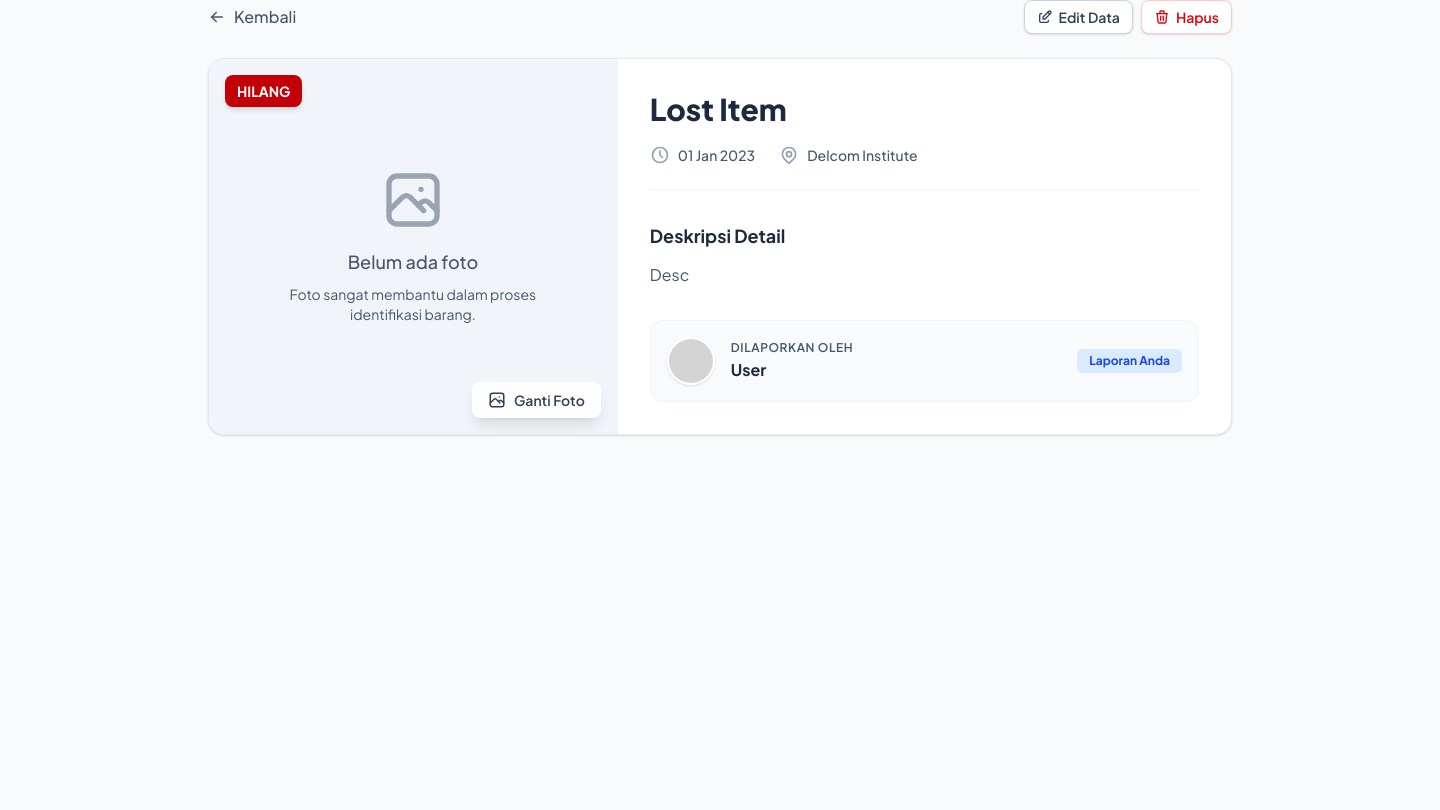
Scenario: DetailPage › closes change cover modal
Click the button "Ganti Foto": (536, 400) [472,382,601,418]
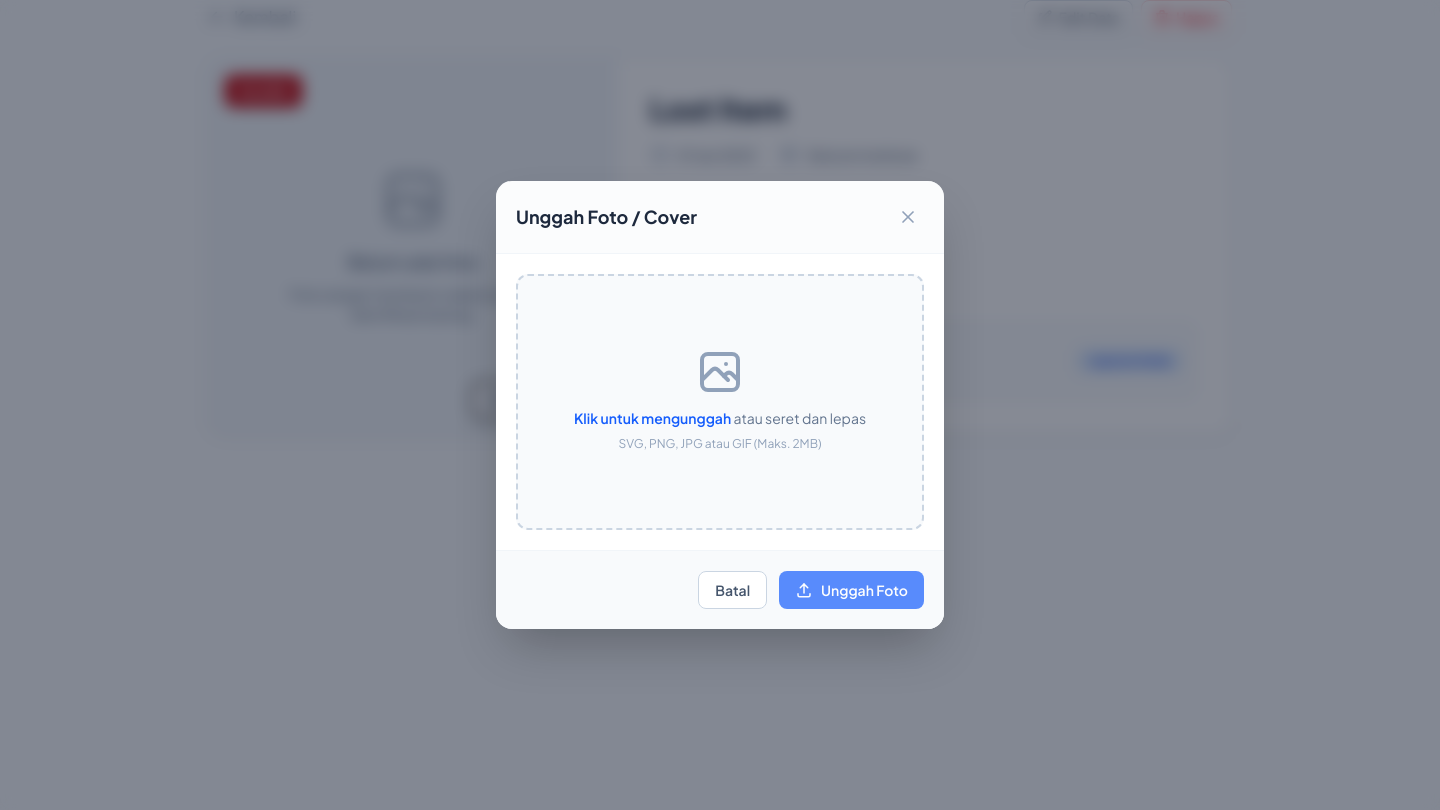
Expected: the heading "Unggah Foto / Cover" is shown, [516,203,697,231]
Click the button "Batal": (733, 590) [698,571,767,609]
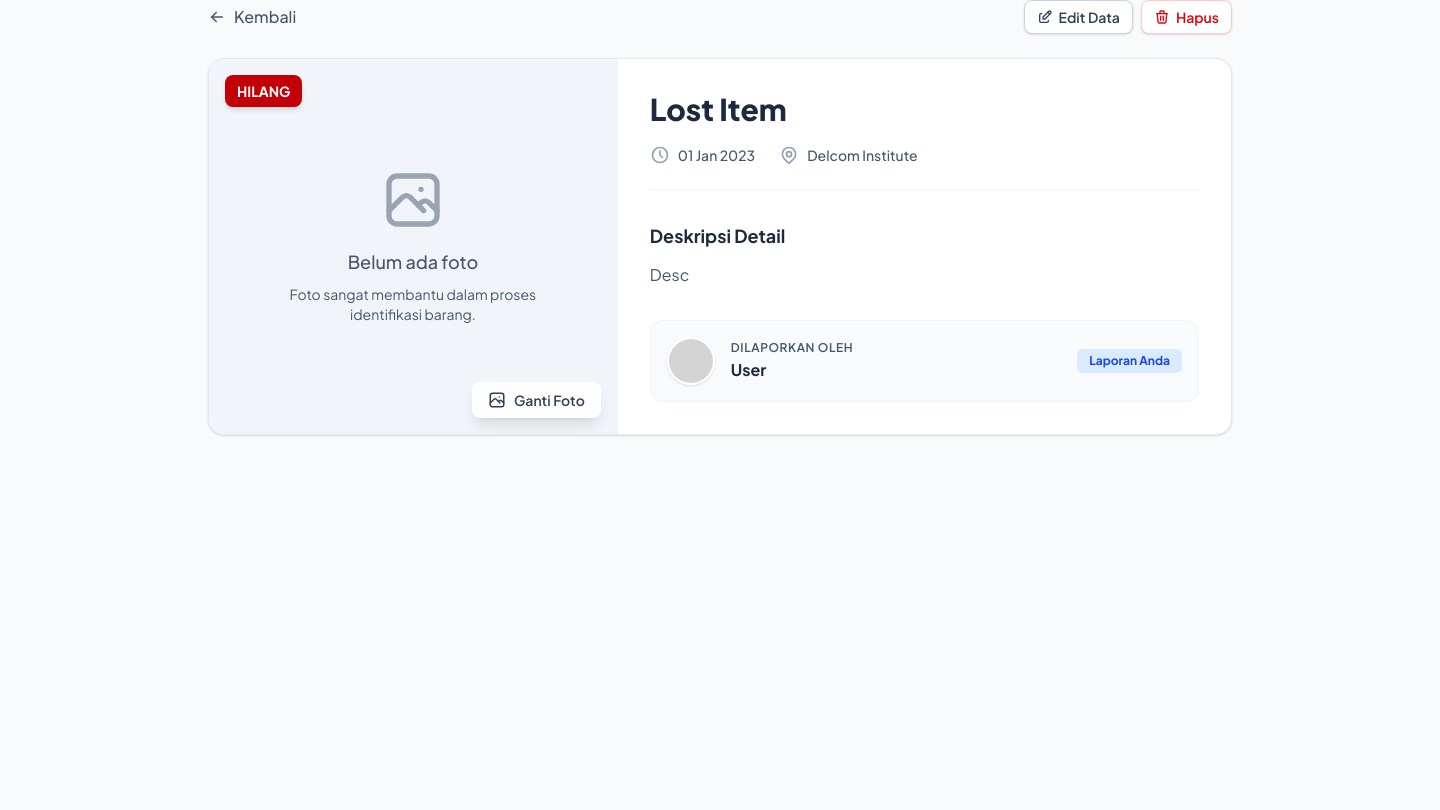
Expected: the heading "Unggah Foto / Cover" is gone
